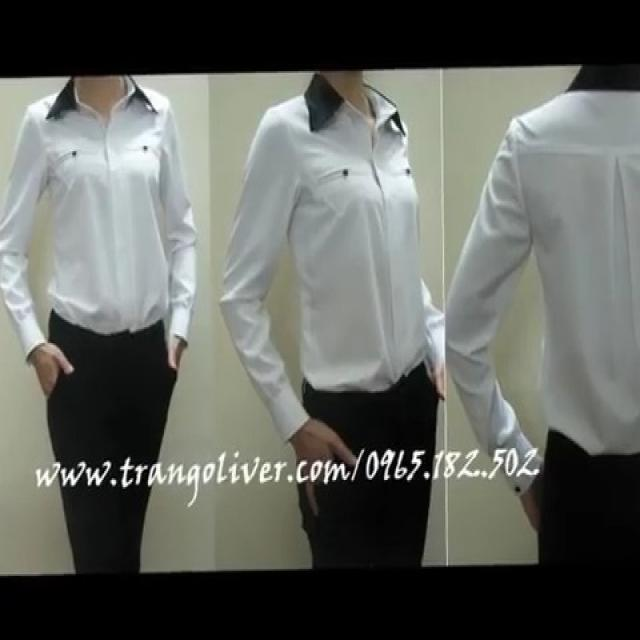Shirt: (445, 64, 640, 500), (217, 71, 443, 447), (0, 75, 197, 361)
